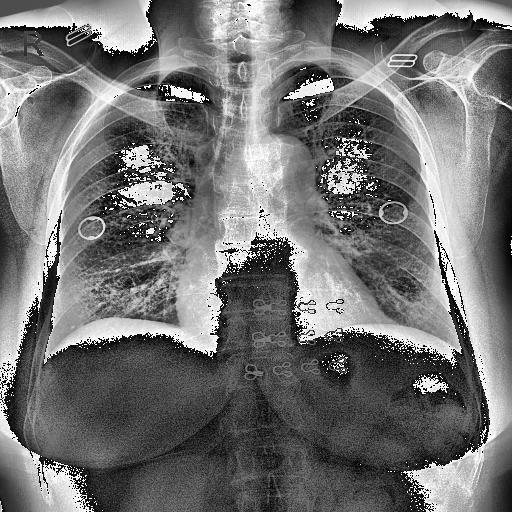0- Aortic enlargement: (244, 134, 320, 214), (248, 134, 316, 194), (251, 132, 315, 194)
3- Cardiomegaly: (173, 289, 398, 333)
